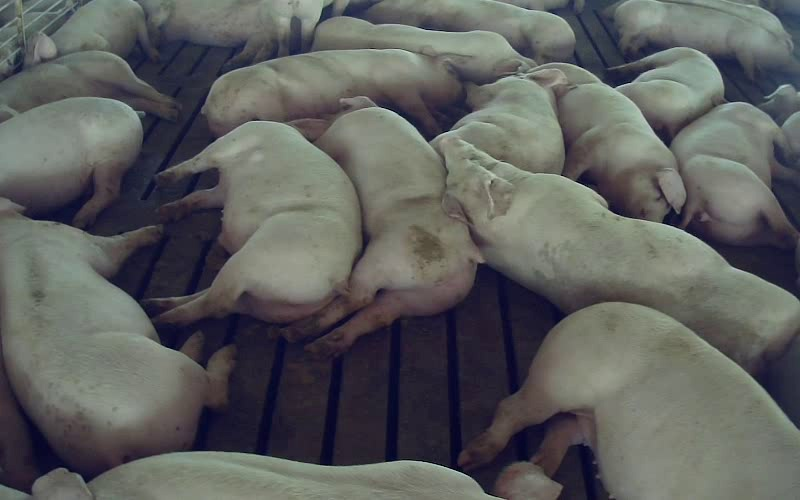pig: (441, 139, 799, 372), (459, 303, 799, 499), (0, 198, 235, 474), (285, 97, 481, 354), (202, 45, 474, 136), (530, 63, 685, 221), (671, 102, 799, 248), (312, 16, 535, 83), (431, 69, 567, 173), (614, 0, 791, 79), (362, 0, 575, 63), (608, 48, 725, 140), (25, 0, 158, 66)
